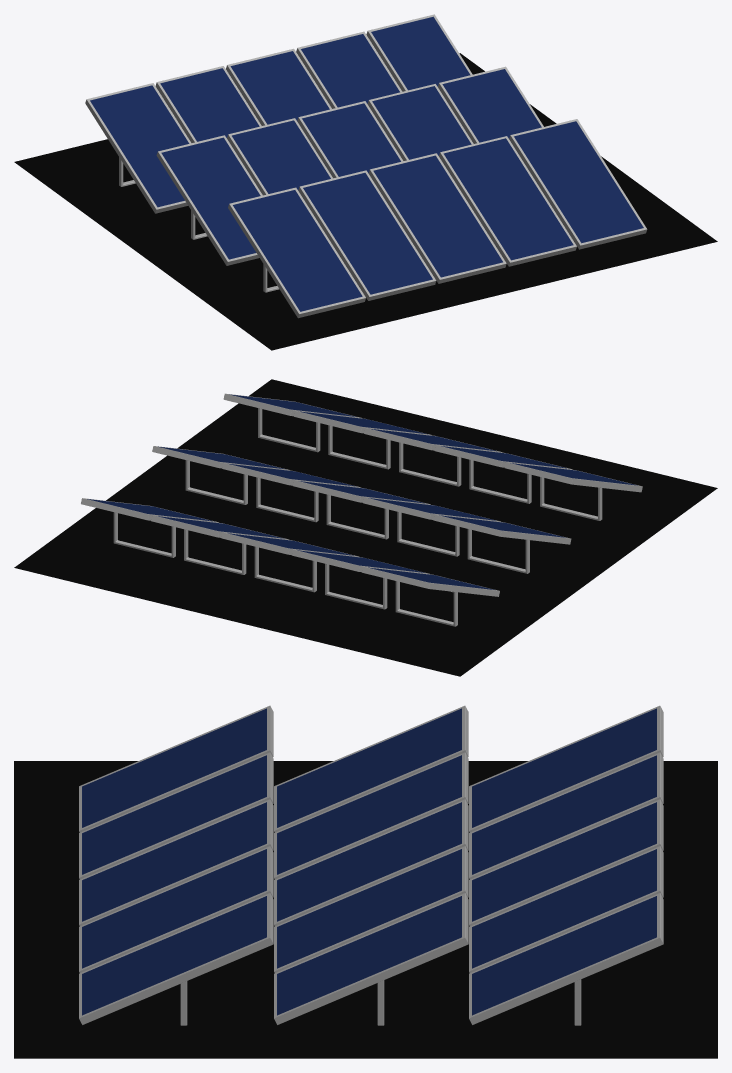
The model's file is Solar Panels.fbx.
The picture shows the model from 3 angles, top to bottom: view 1: azimuth 30°, elevation 25°; view 2: azimuth 150°, elevation 25°; view 3: azimuth 270°, elevation 25°; orthographic projection. The views are drawn at different scales.
Visible parts, largest first — view 1: Cube, Plane, Cube.001; view 2: Plane, Cube, Cube.001; view 3: Cube, Plane, Cube.001.
Boxes of the visible parts, x1,y1,x2,y2 form: Cube: (85,14,647,318); Plane: (14,53,717,350); Cube.001: (119,157,279,292); Plane: (14,379,717,676); Cube: (81,393,642,596); Cube.001: (113,408,602,626); Cube: (79,705,663,1024); Plane: (14,761,717,1058); Cube.001: (180,979,581,1025).
Bounding box in the file's own units: 1 × 1 × 0.1416.
